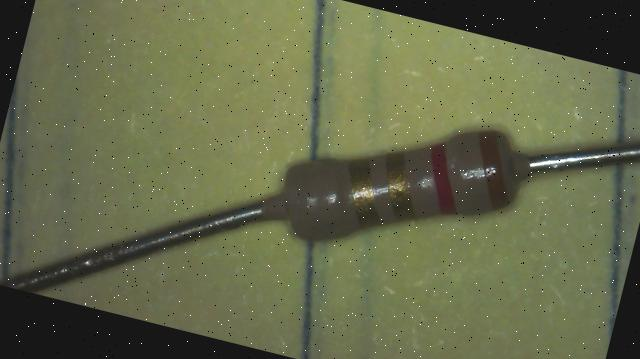brown: (464, 130, 524, 210)
gold: (372, 150, 428, 224), (334, 154, 390, 228)
red: (416, 140, 471, 216)
resistor: (257, 105, 548, 267)
